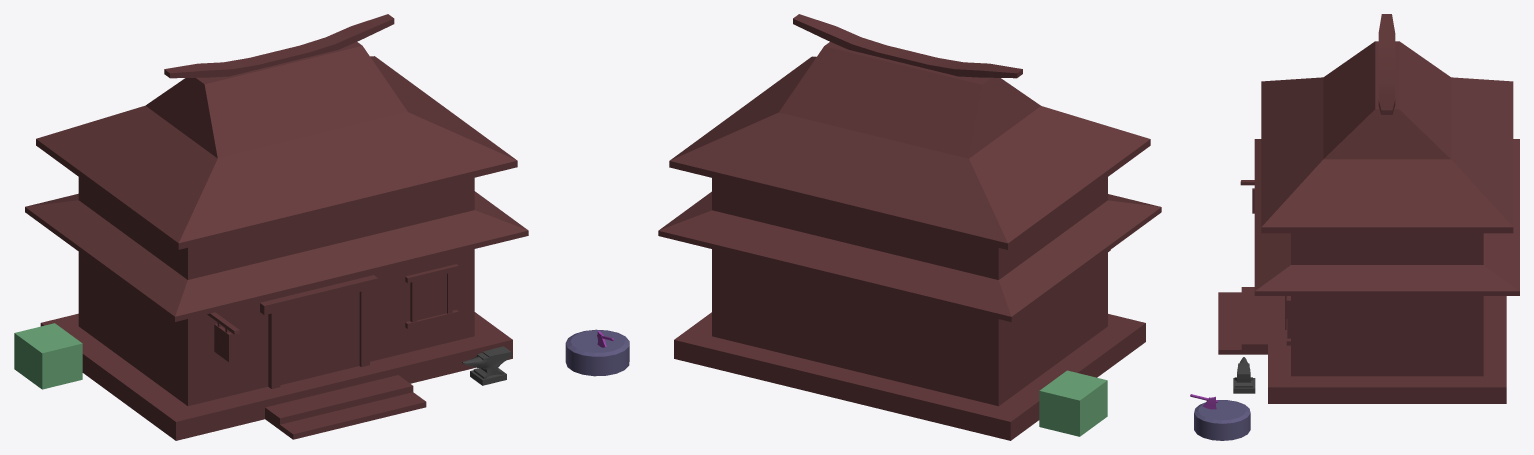
File: Blacksmith.FBX
The picture shows the model from 3 angles, left to right: view 1: azimuth 30°, elevation 25°; view 2: azimuth 150°, elevation 25°; view 3: azimuth 270°, elevation 25°; orthographic projection. The views are drawn at different scales.
Visible parts, largest first — view 1: Stairs, Crate, Log, Anvil; view 2: Stairs, Crate; view 3: Stairs, Log, Anvil.
Part boxes in pixels (x1,y1,x2,y2): Stairs: (25,14,528,440); Crate: (14,323,82,389); Log: (565,329,629,376); Anvil: (462,346,511,385); Stairs: (658,14,1161,440); Crate: (1039,370,1107,436); Stairs: (1218,14,1519,403); Log: (1194,400,1250,440); Anvil: (1233,357,1255,393).
Bounding box in the file's own units: 137 × 85.46 × 94.33.
